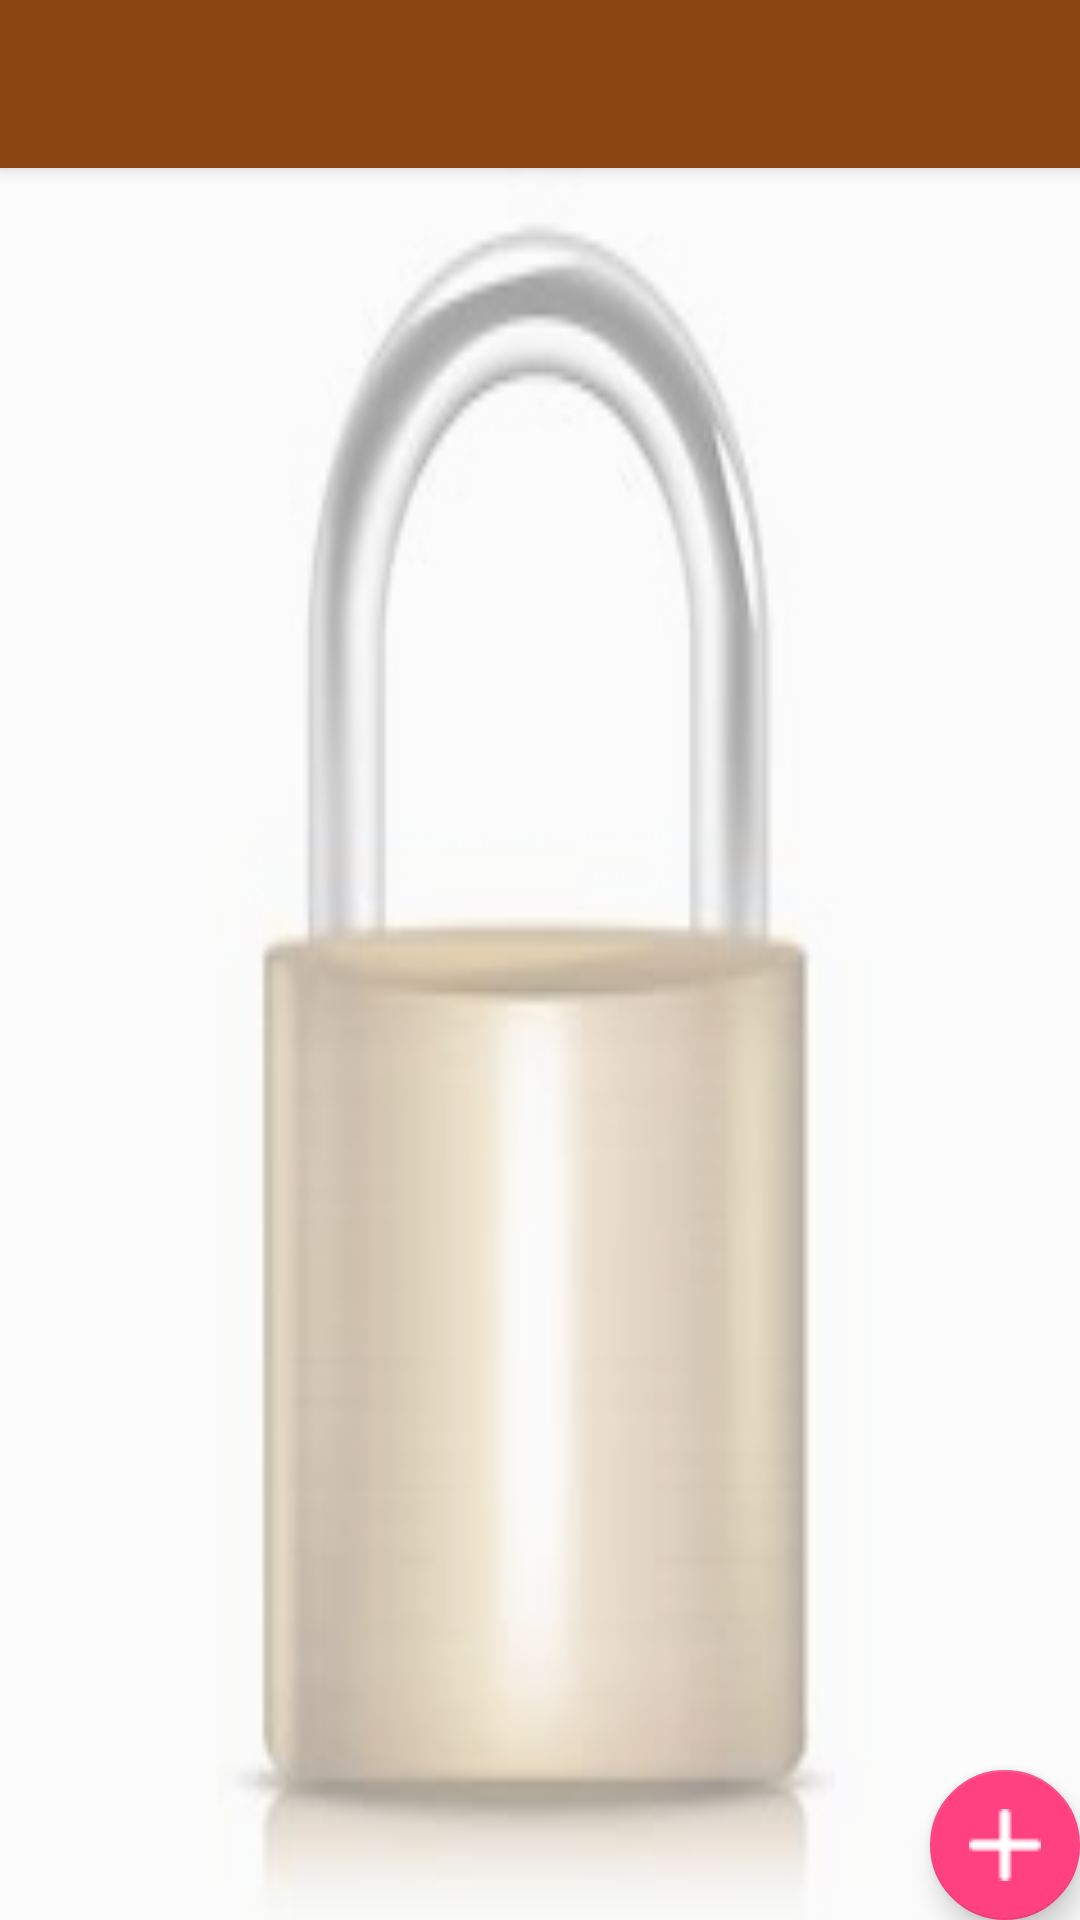

Point at icon controls on the screen. Image size 1080 x 1920, points as (x=x, y=y).
add: (x=1005, y=1845)
